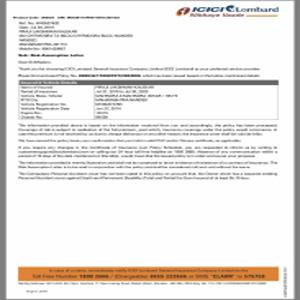image: (173, 4, 282, 21)
table: (18, 79, 278, 124)
text: (18, 124, 279, 179), (13, 12, 142, 63), (15, 64, 264, 79)
